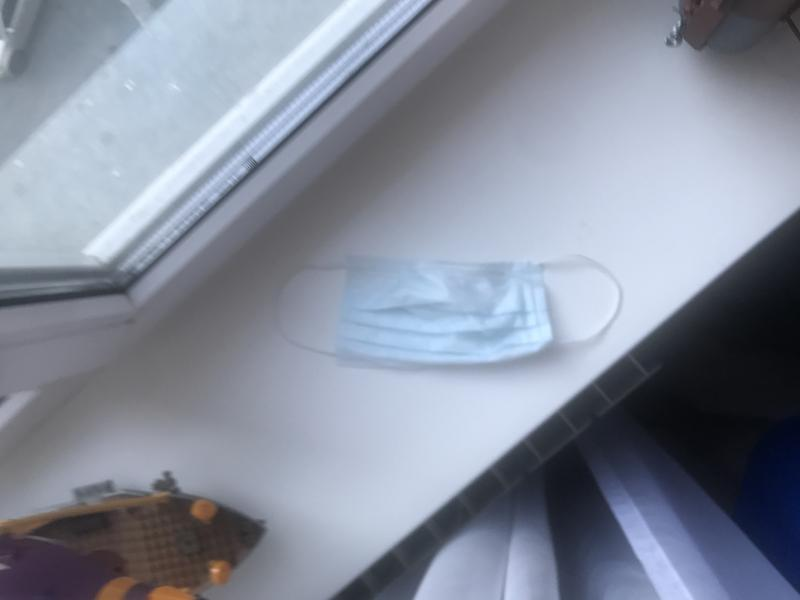medical_mask: (345, 252, 623, 356)
